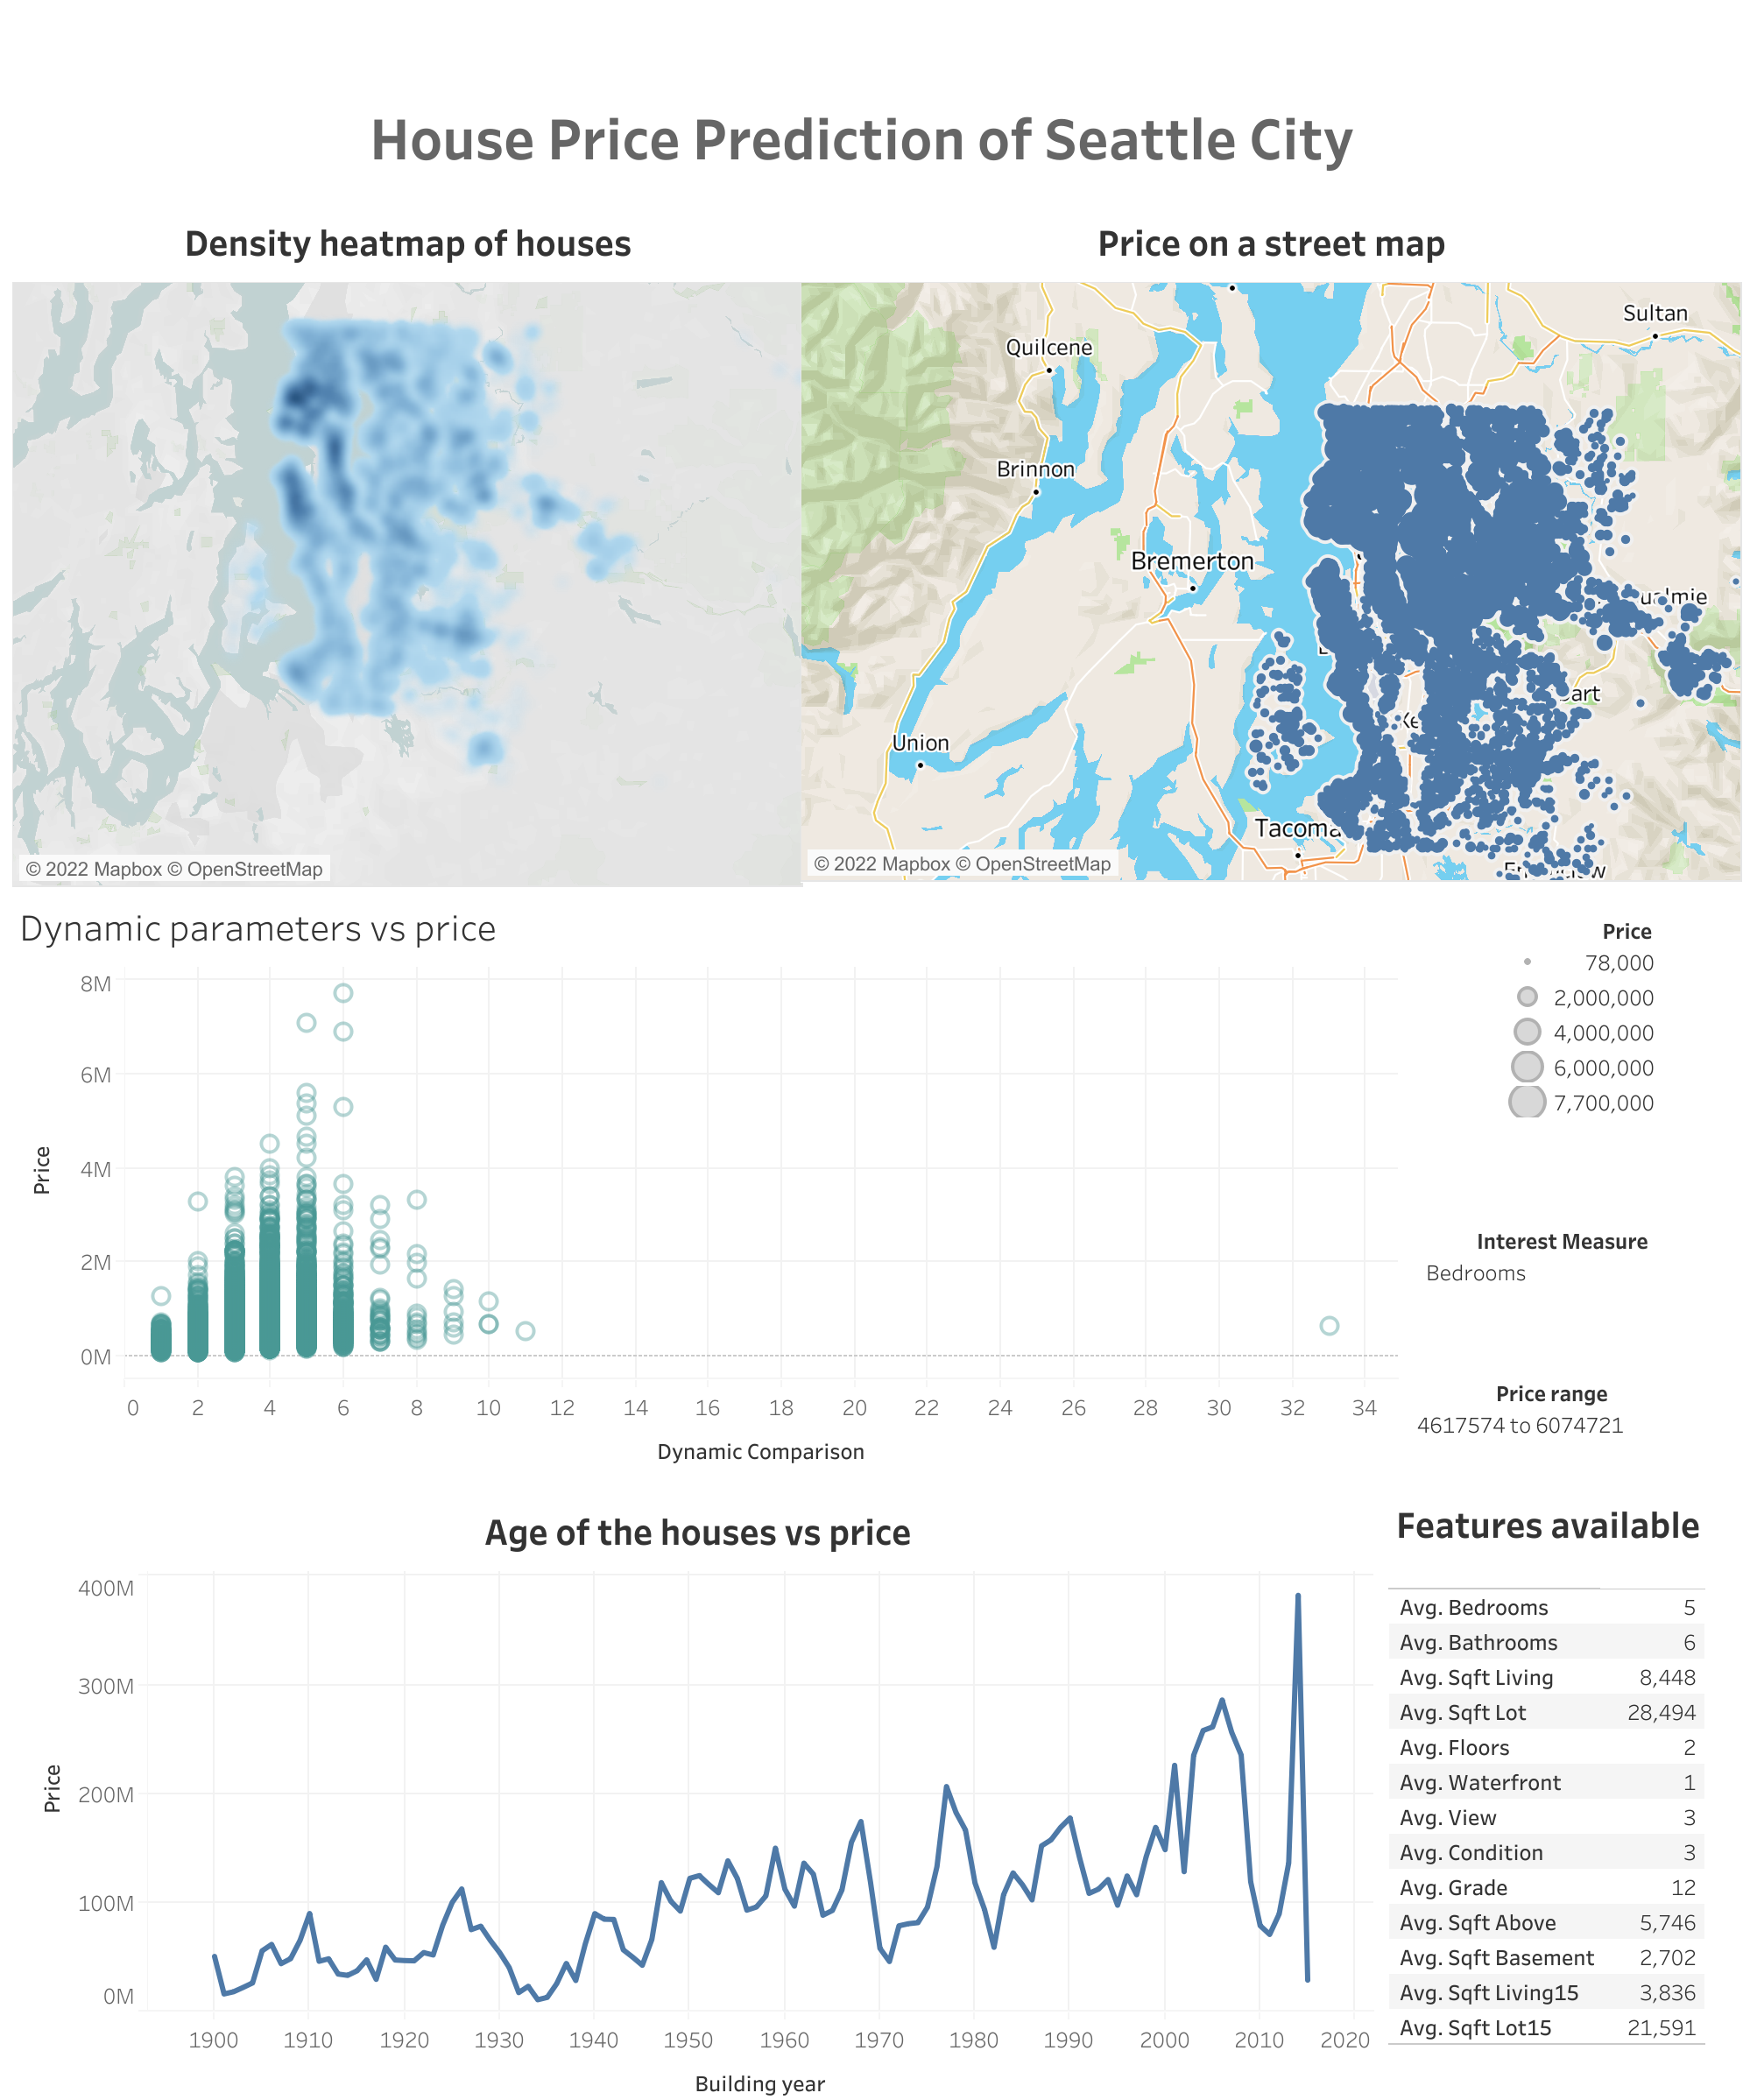

The page's visual inventory and layout, read from the dashboard file:
{"tool":"tableau","page":{"name":"House_price_dashboard","canvas":[1000,1200],"ordinal":0},"visuals":[{"type":"worksheet","title":"Density heatmap of houses","mark":"Heatmap","rows":["lat"],"cols":["long"],"box":[7,118,452,389]},{"type":"worksheet","title":"Price_streetmap","mark":"Automatic","rows":["lat"],"cols":["long"],"box":[457,118,538,386]},{"type":"worksheet","title":"Dynamic parameters vs price","mark":"Automatic","rows":["price"],"cols":["Calculation_89579420829696037"],"box":[7,509,791,335]},{"type":"legend","title":"Price_streetmap","param":"[federated.0h8gk360uzicd81dy2m751vq7az5].[sum:price:qk]","box":[858,520,140,119]},{"type":"parameter","param":"[Parameters].[Parameter 1]","box":[812,698,160,48]},{"type":"filter","title":"Features available at a given price range","param":"[federated.0h8gk360uzicd81dy2m751vq7az5].[none:price:qk]","box":[806,785,160,62]},{"type":"worksheet","title":"Age vs price","mark":"Automatic","rows":["price"],"cols":["yr_built"],"box":[13,854,771,351]}]}

Visuals, with their boxes in screenshot pixels (x1, y1, x2, y2), scaled from the page's 1000x1200 canvas onto the 1750x2100 screenshot:
"Density heatmap of houses" worksheet (Heatmap marks): (12,207,803,887)
"Price_streetmap" worksheet: (800,207,1741,882)
"Dynamic parameters vs price" worksheet: (12,891,1396,1477)
"Price_streetmap" legend: (1501,910,1746,1118)
parameter: (1421,1222,1701,1306)
"Features available at a given price range" filter: (1410,1374,1690,1483)
"Age vs price" worksheet: (23,1495,1372,2099)
